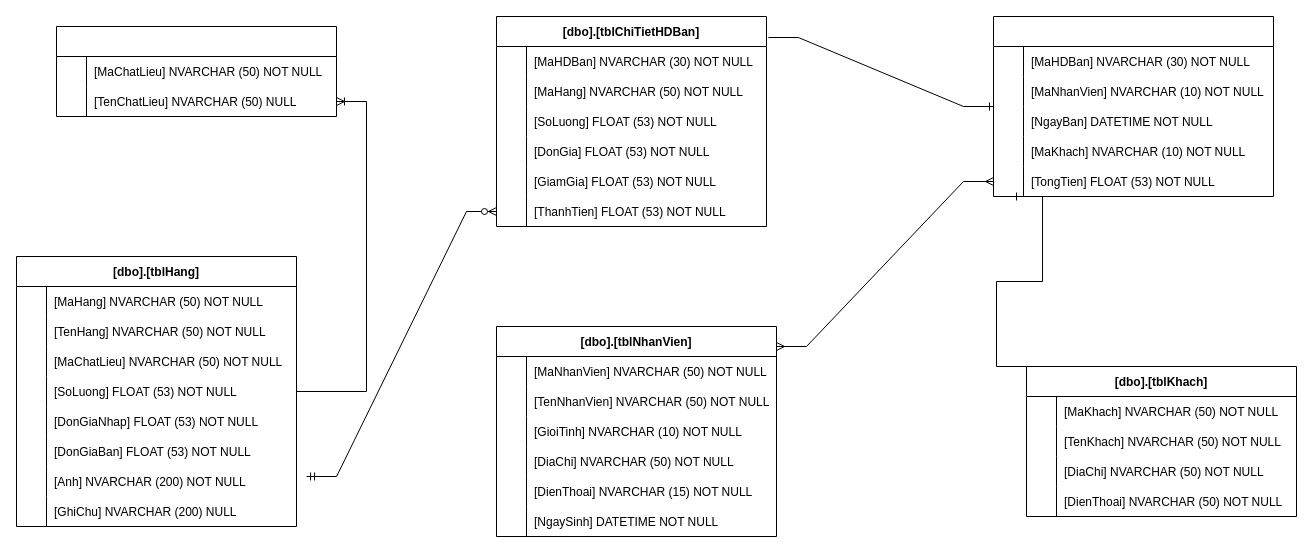
The diagram is 1313 pixels wide and 553 high, and some of its shapes have lost their labels. The box of each missing label's shape, as (x1, y1, x2, y2) in pixels:
[dbo].[tblHoaDonBan]: (992, 16, 1274, 196)
[dbo].[tlbChatLieu]: (56, 26, 336, 116)
